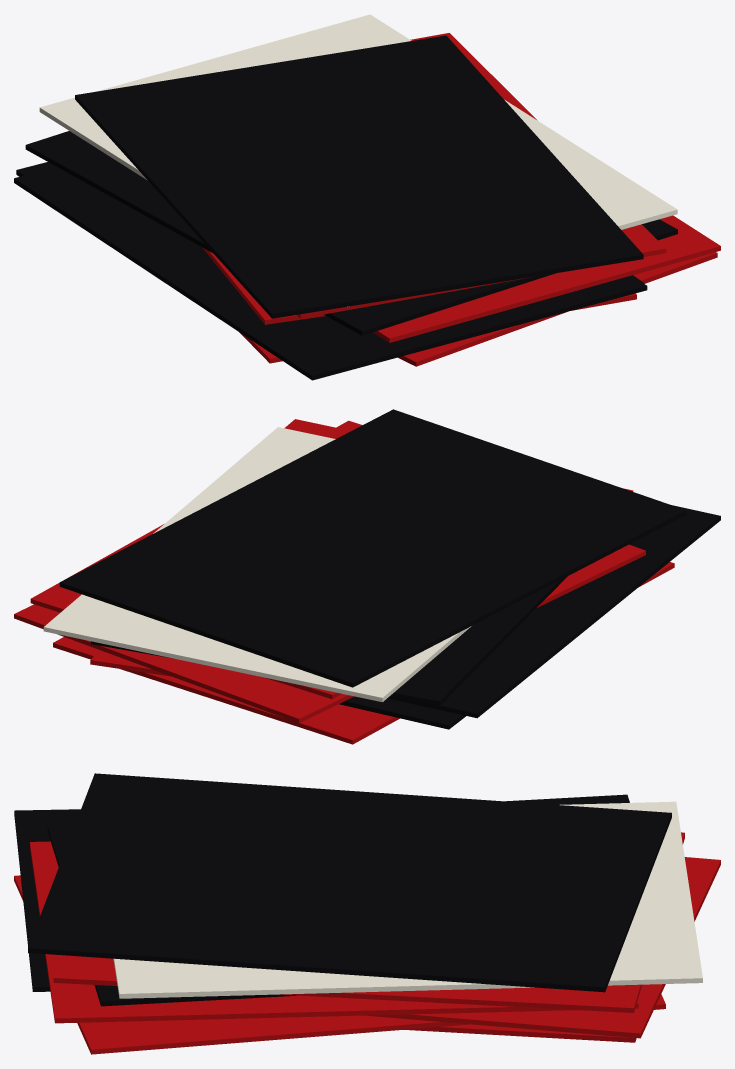
The model's file is Item_OR_Cards_19.glb.
3 renders of one model, top to bottom at view 1: azimuth 30°, elevation 25°; view 2: azimuth 150°, elevation 25°; view 3: azimuth 270°, elevation 25°, orthographic. The views are drawn at different scales.
Parts seen in each view (by area): view 1: Item_OR_Cards_19; view 2: Item_OR_Cards_19; view 3: Item_OR_Cards_19.
Part boxes in pixels (left/top/right/bottom): Item_OR_Cards_19: left=14, top=14, right=720, bottom=380; Item_OR_Cards_19: left=14, top=409, right=720, bottom=744; Item_OR_Cards_19: left=14, top=773, right=720, bottom=1054.
Bounding box in the file's own units: 0.0855 × 0.0098 × 0.1064.
